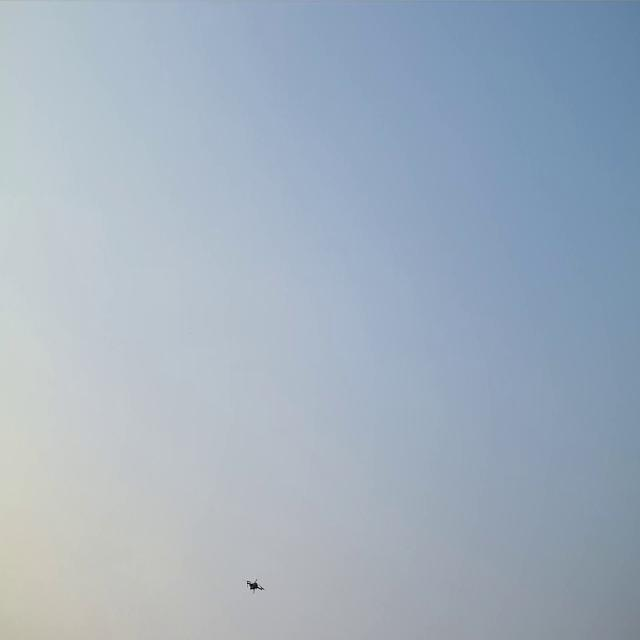UAV: (242, 576, 268, 598)
